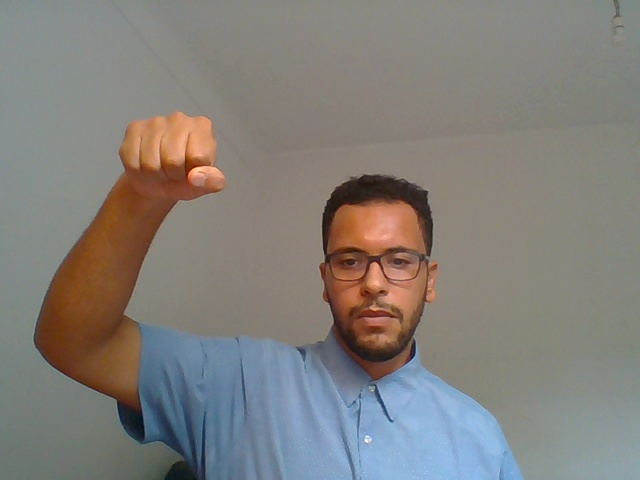yes: (90, 63, 237, 218)
